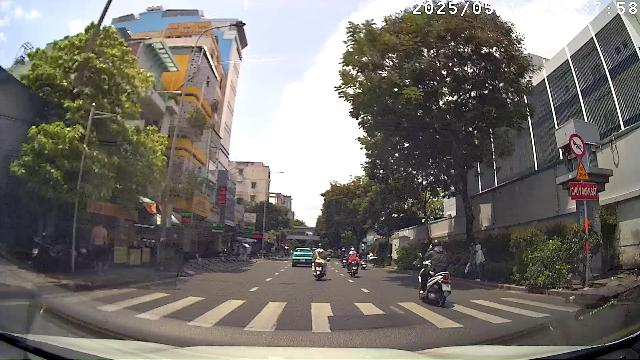128-cam-su-dung-coi: (568, 134, 586, 158)
